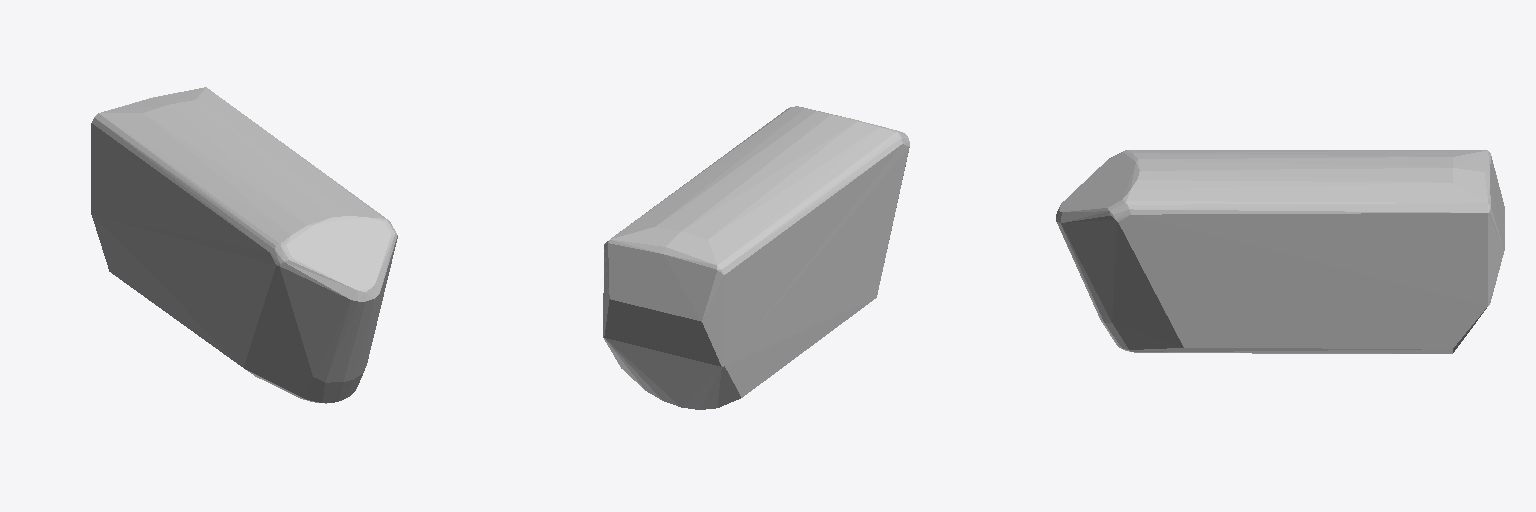
File: converted_r3_finger_base_col_808080ff.obj
3 views of the same model, side by side, from view 1: azimuth 30°, elevation 25°; view 2: azimuth 150°, elevation 25°; view 3: azimuth 270°, elevation 25° (orthographic).
Bounding box in the file's own units: 0.06 × 0.0834 × 0.192.